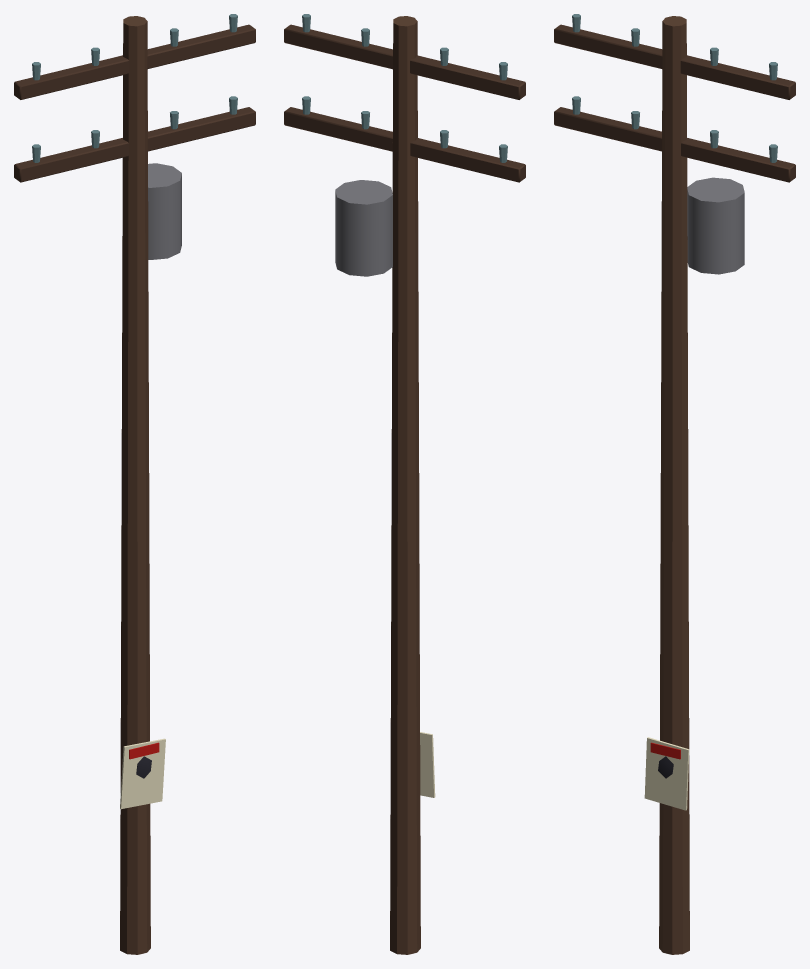
Rendered from power_pole_block.glb.
The picture shows the model from 3 angles, left to right: view 1: azimuth 30°, elevation 25°; view 2: azimuth 150°, elevation 25°; view 3: azimuth 330°, elevation 25°; orthographic projection.
Visible parts, largest first — view 1: power_pole; view 2: power_pole; view 3: power_pole.
Part boxes in pixels (x1,y1,x2,y2): power_pole: (14,14,255,954); power_pole: (284,14,525,954); power_pole: (554,14,795,954).
Size of the model in its own units: 2.4 by 9 by 0.6285.
